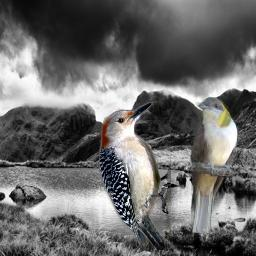Cuckoo: (188, 97, 238, 233)
Woodpecker: (99, 102, 171, 250)
